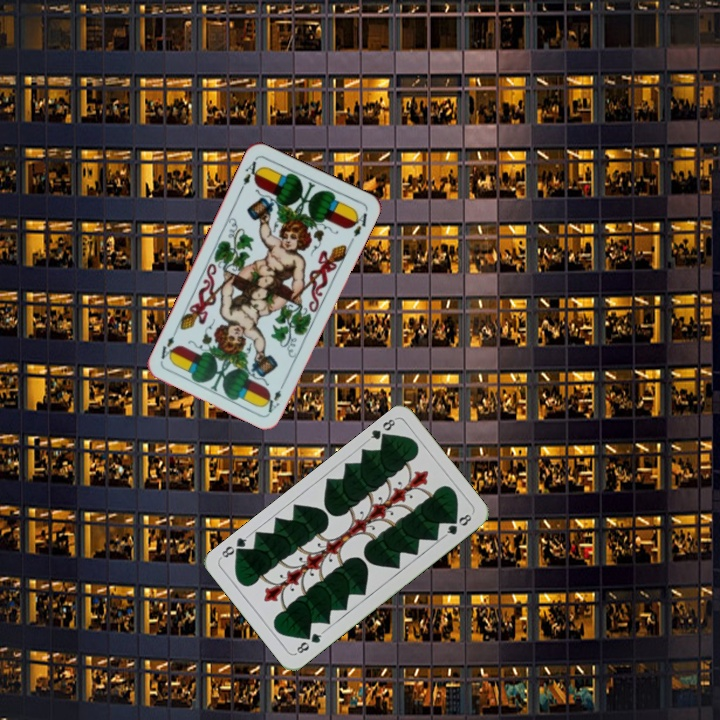EA: (236, 155, 263, 194), (264, 377, 288, 415)
G8: (363, 414, 398, 445), (291, 627, 326, 657)
